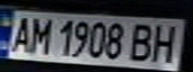0: (87, 19, 109, 60)
1: (51, 16, 75, 56)
8: (103, 19, 130, 61)
9: (69, 17, 90, 59)
A: (6, 14, 36, 53)
B: (124, 20, 160, 63)
H: (145, 20, 184, 63)
M: (27, 15, 54, 55)
